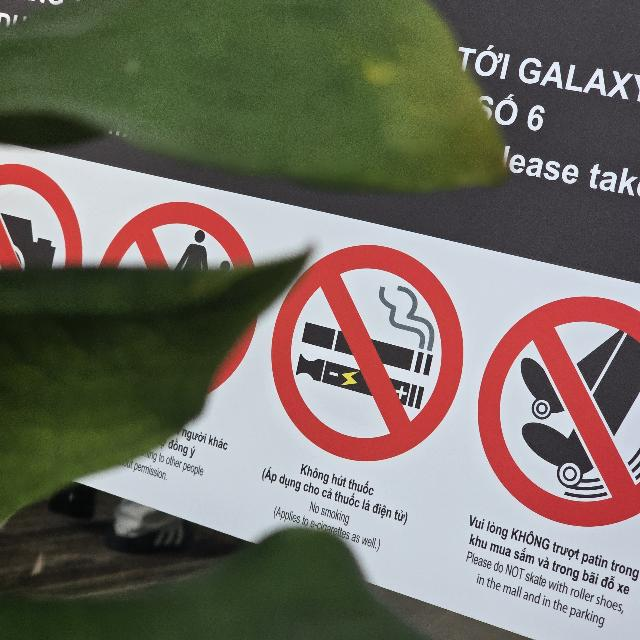cam hut thuoc: (272, 245, 463, 461)
